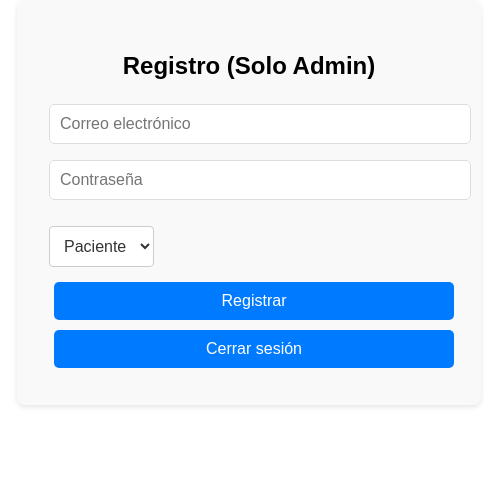
Test: muestra error si la contraseña tiene menos de 6 caracteres
The image size is (499, 477).
Type "valido@correo.com" into the field with placeholder "Correo electrónico" at (260, 124), box [49, 104, 471, 144]
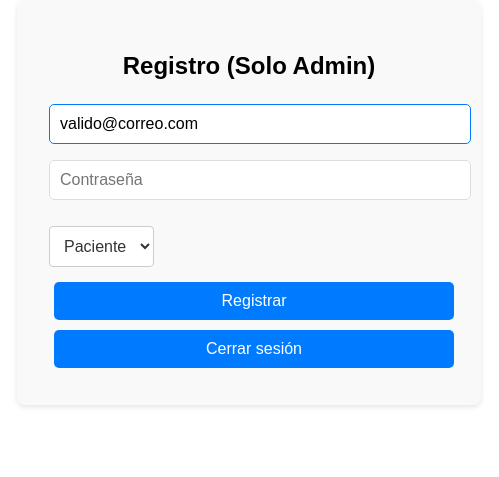
Type "123" into the password field with placeholder "Contraseña" at (260, 180), box [49, 160, 471, 200]
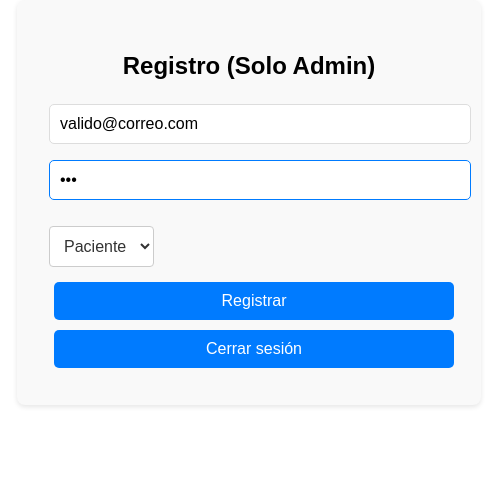
Click the button "Registrar" at (254, 301), box [54, 282, 454, 320]
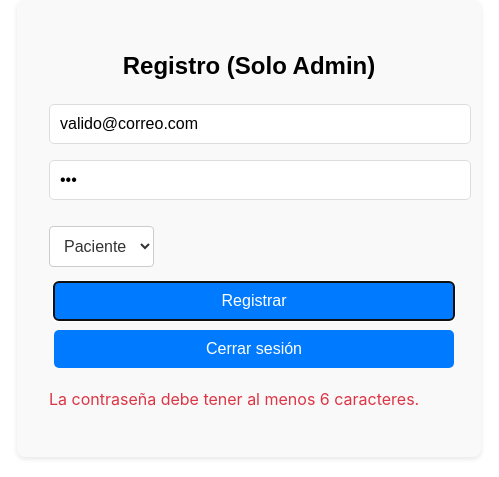
Now the text "La contraseña debe tener al menos 6 caracteres." is shown, box [49, 389, 449, 409]
